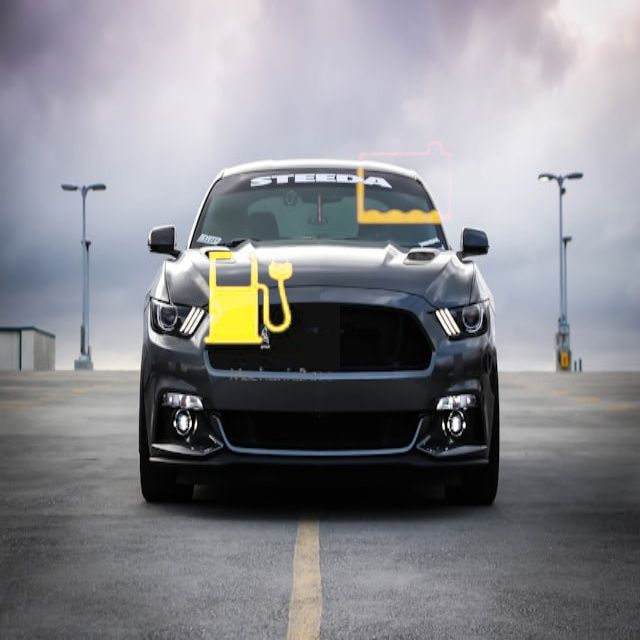symbol: (158, 208, 340, 390), (316, 93, 495, 272)
